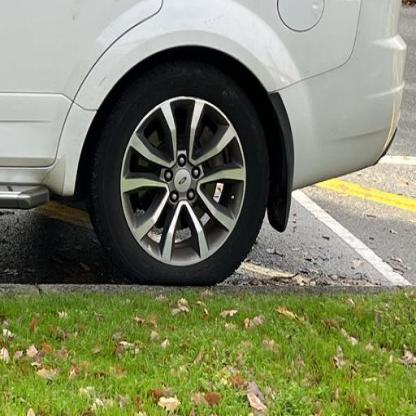Tire: (85, 65, 269, 287)
